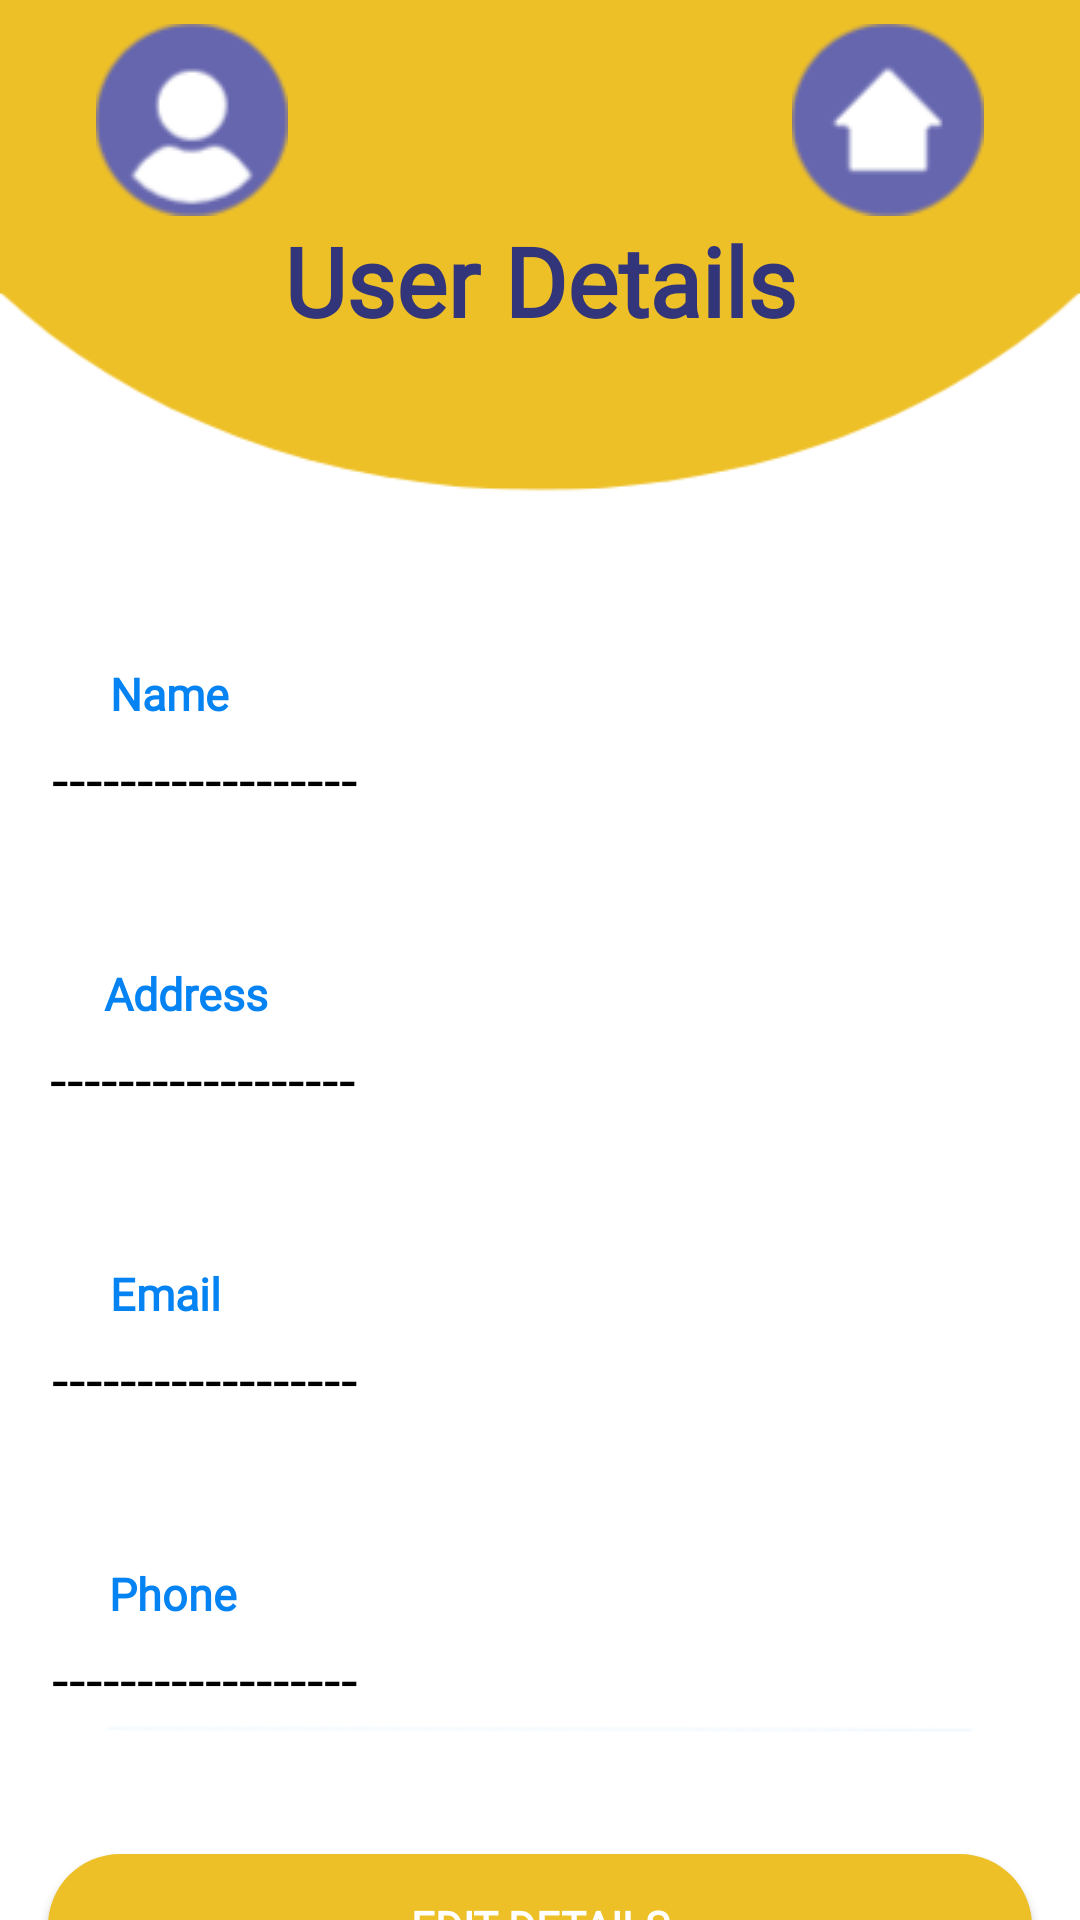

Icon bounding boxes for this 1080*1920 phone screenshot, format [left=x1, top=y1, right=x2, bottom=y2]:
homenew: [left=792, top=24, right=984, bottom=216]
profilenew: [left=96, top=24, right=288, bottom=216]
